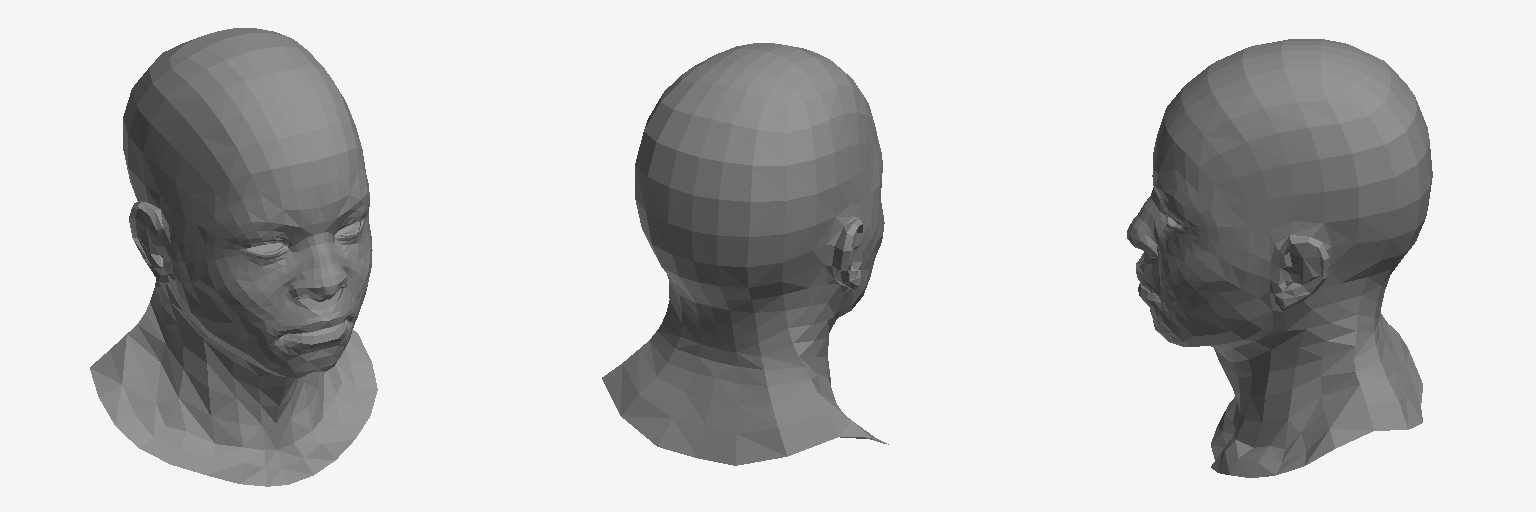
File: african_head.obj
3 renders of one model, left to right at view 1: azimuth 30°, elevation 25°; view 2: azimuth 150°, elevation 25°; view 3: azimuth 270°, elevation 25°, orthographic.
Visible parts, largest first — view 1: african_head; view 2: african_head; view 3: african_head.
Part boxes in pixels (left/top/right/bottom): african_head: left=90, top=28, right=377, bottom=486; african_head: left=602, top=43, right=888, bottom=465; african_head: left=1127, top=39, right=1432, bottom=477.
Bounding box in the file's own units: 1.32 × 2 × 1.35.